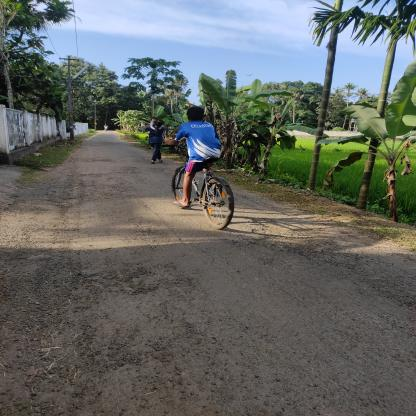bicycle: (144, 140, 253, 237)
